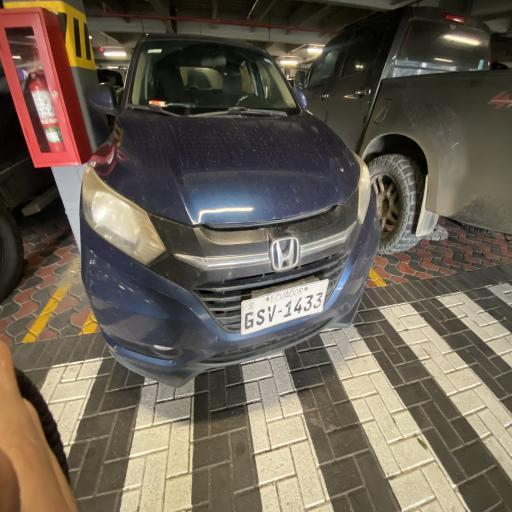license_plate: (242, 310, 255, 333), (264, 304, 277, 325), (255, 308, 266, 328), (292, 296, 303, 315), (284, 300, 294, 319), (304, 294, 314, 312), (313, 293, 324, 309)
